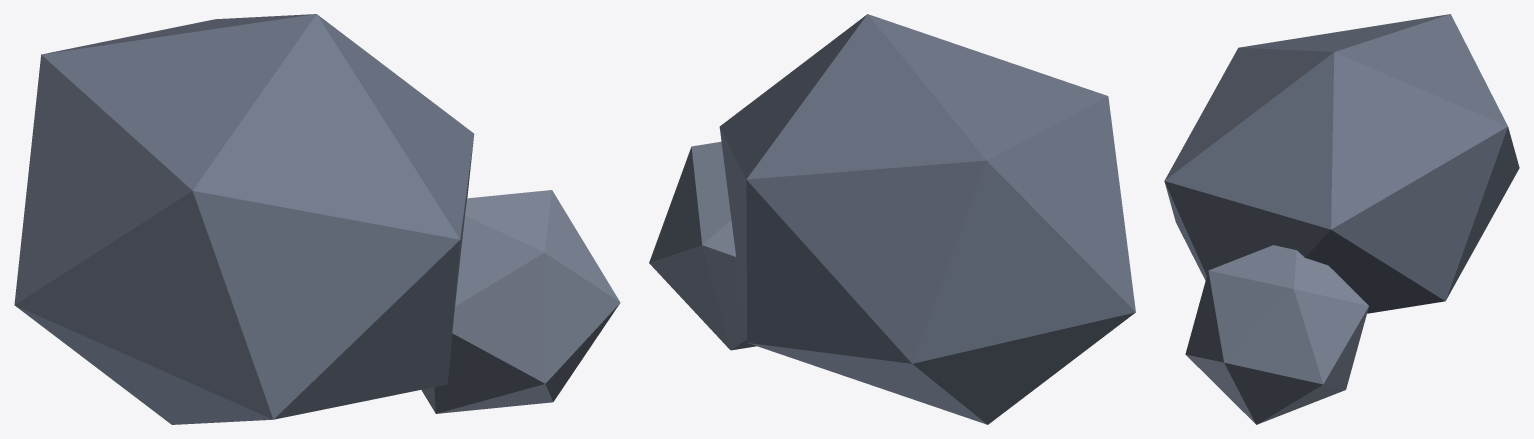
File: rocher.glb
3 views of the same model, side by side, from view 1: azimuth 30°, elevation 25°; view 2: azimuth 150°, elevation 25°; view 3: azimuth 270°, elevation 25° (orthographic). The views are drawn at different scales.
Bounding box in the file's own units: 2.15 × 1.55 × 1.65.
